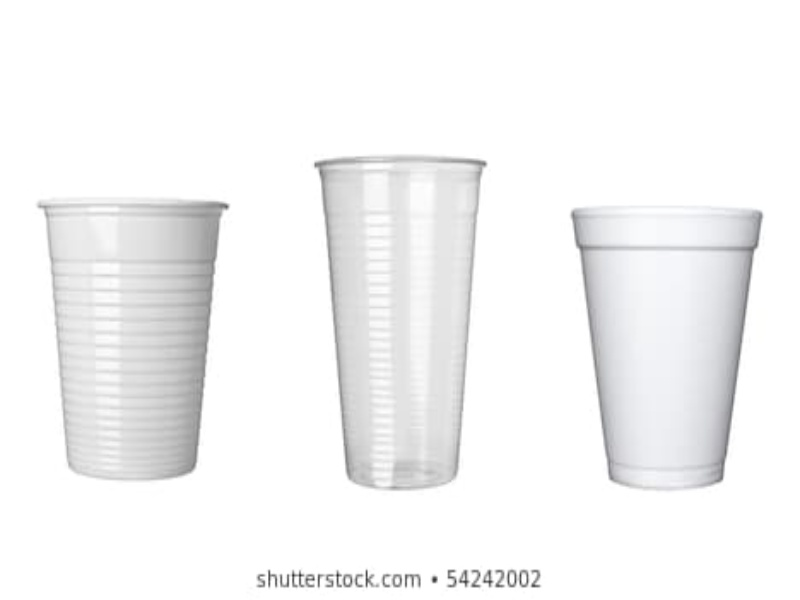plastic-cup: (306, 151, 489, 494), (563, 202, 765, 493), (30, 194, 230, 480)
